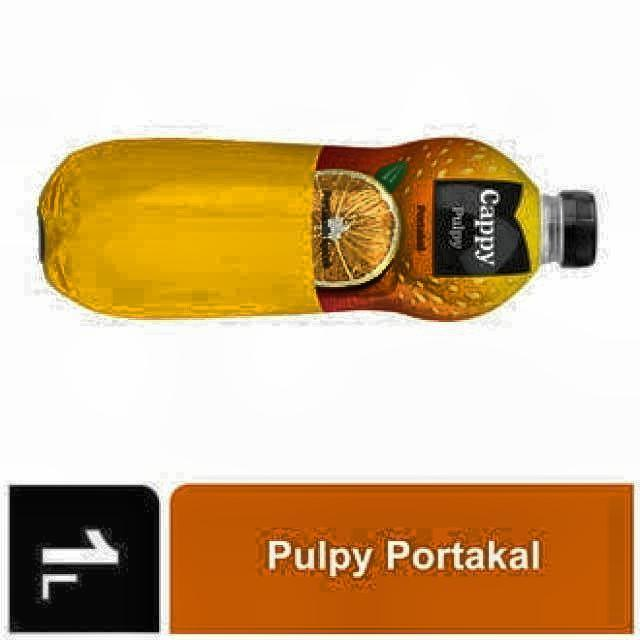plastic: (39, 138, 596, 320)
